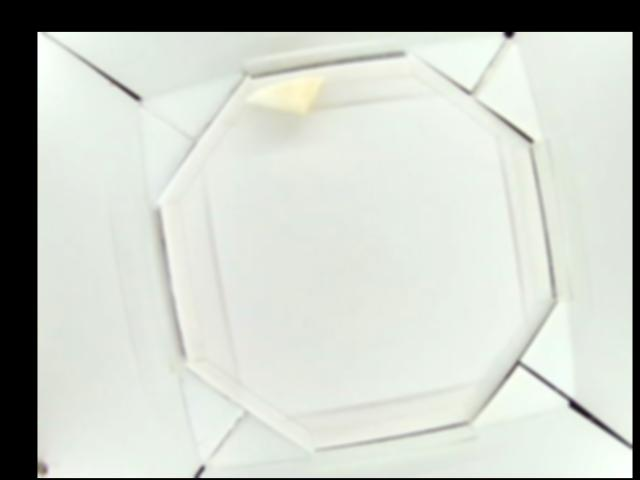Mooli: (246, 74, 323, 112)
